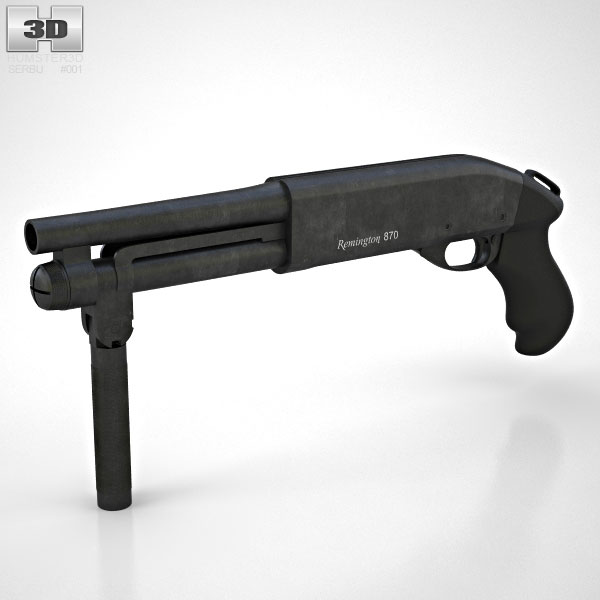weapon: (22, 154, 576, 513)
